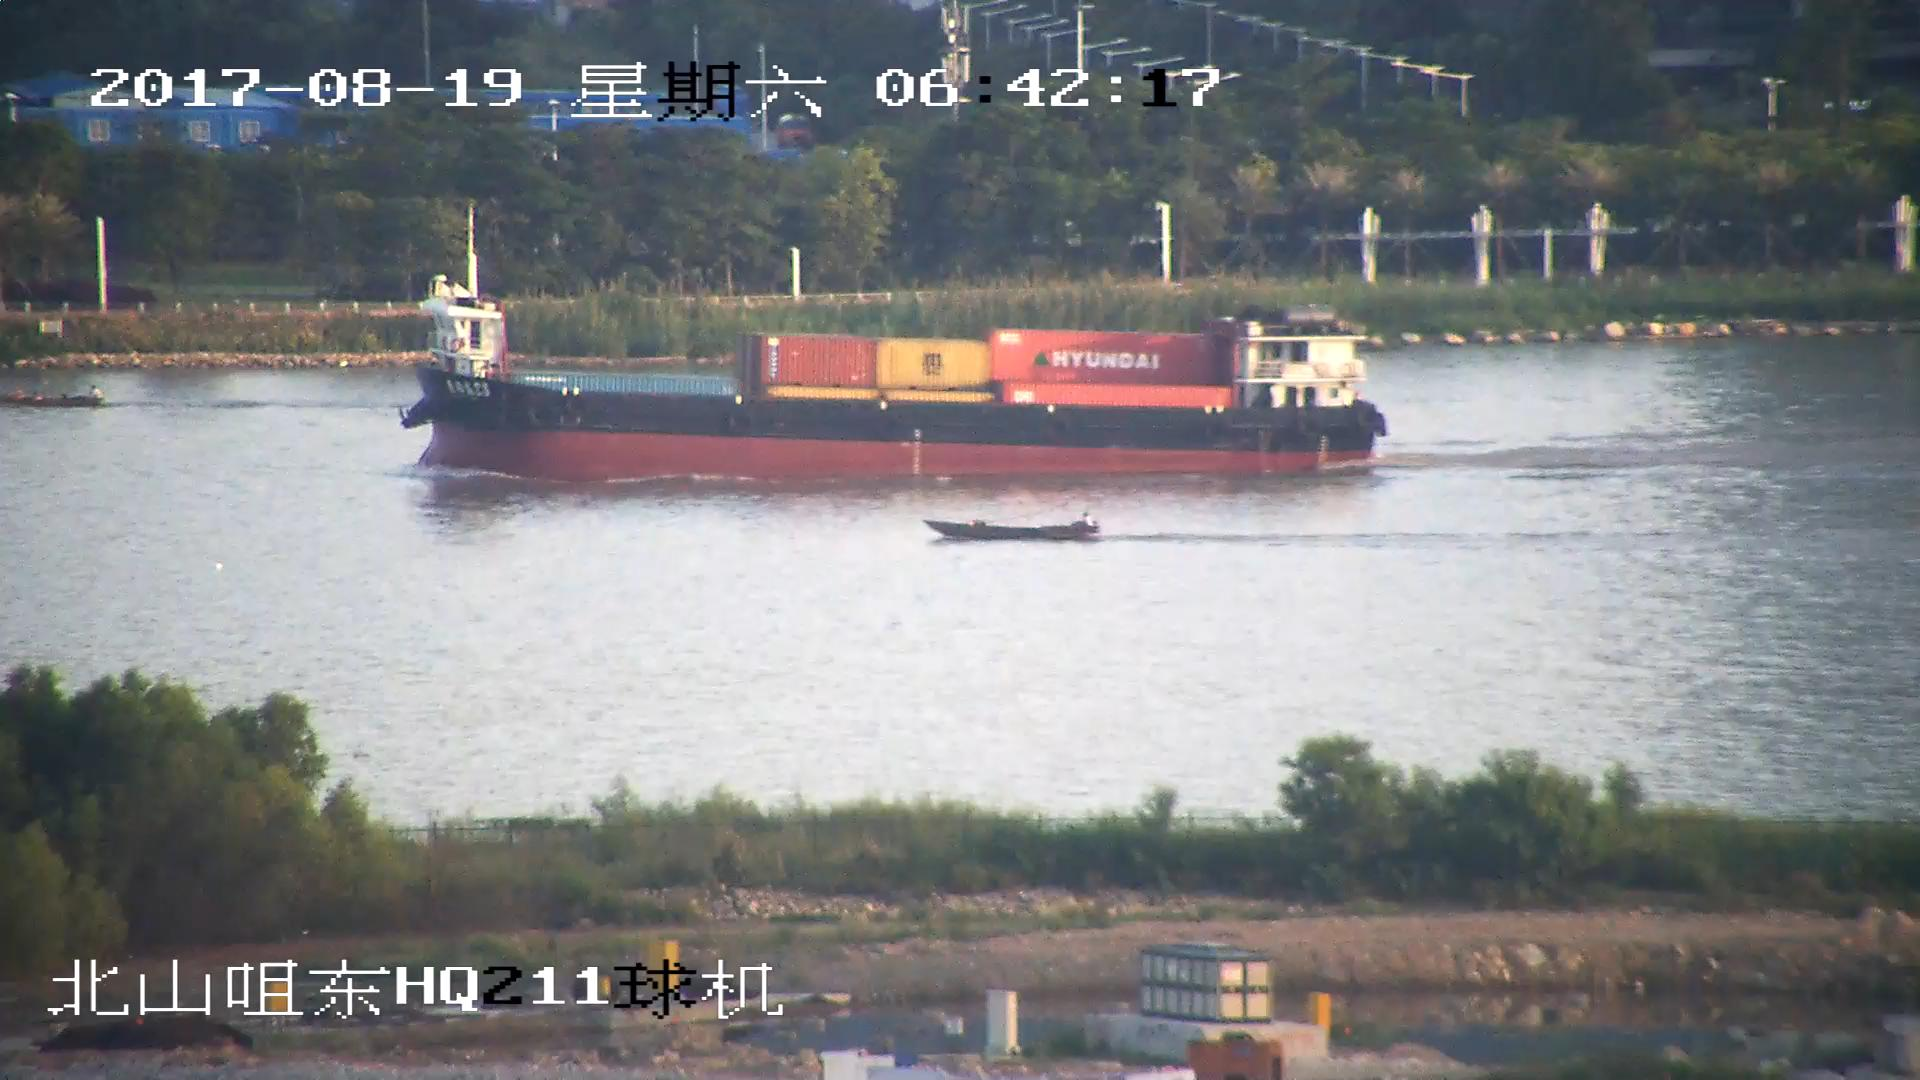container ship: (406, 217, 1382, 479)
fishing boat: (924, 509, 1097, 544), (1, 385, 107, 416)
